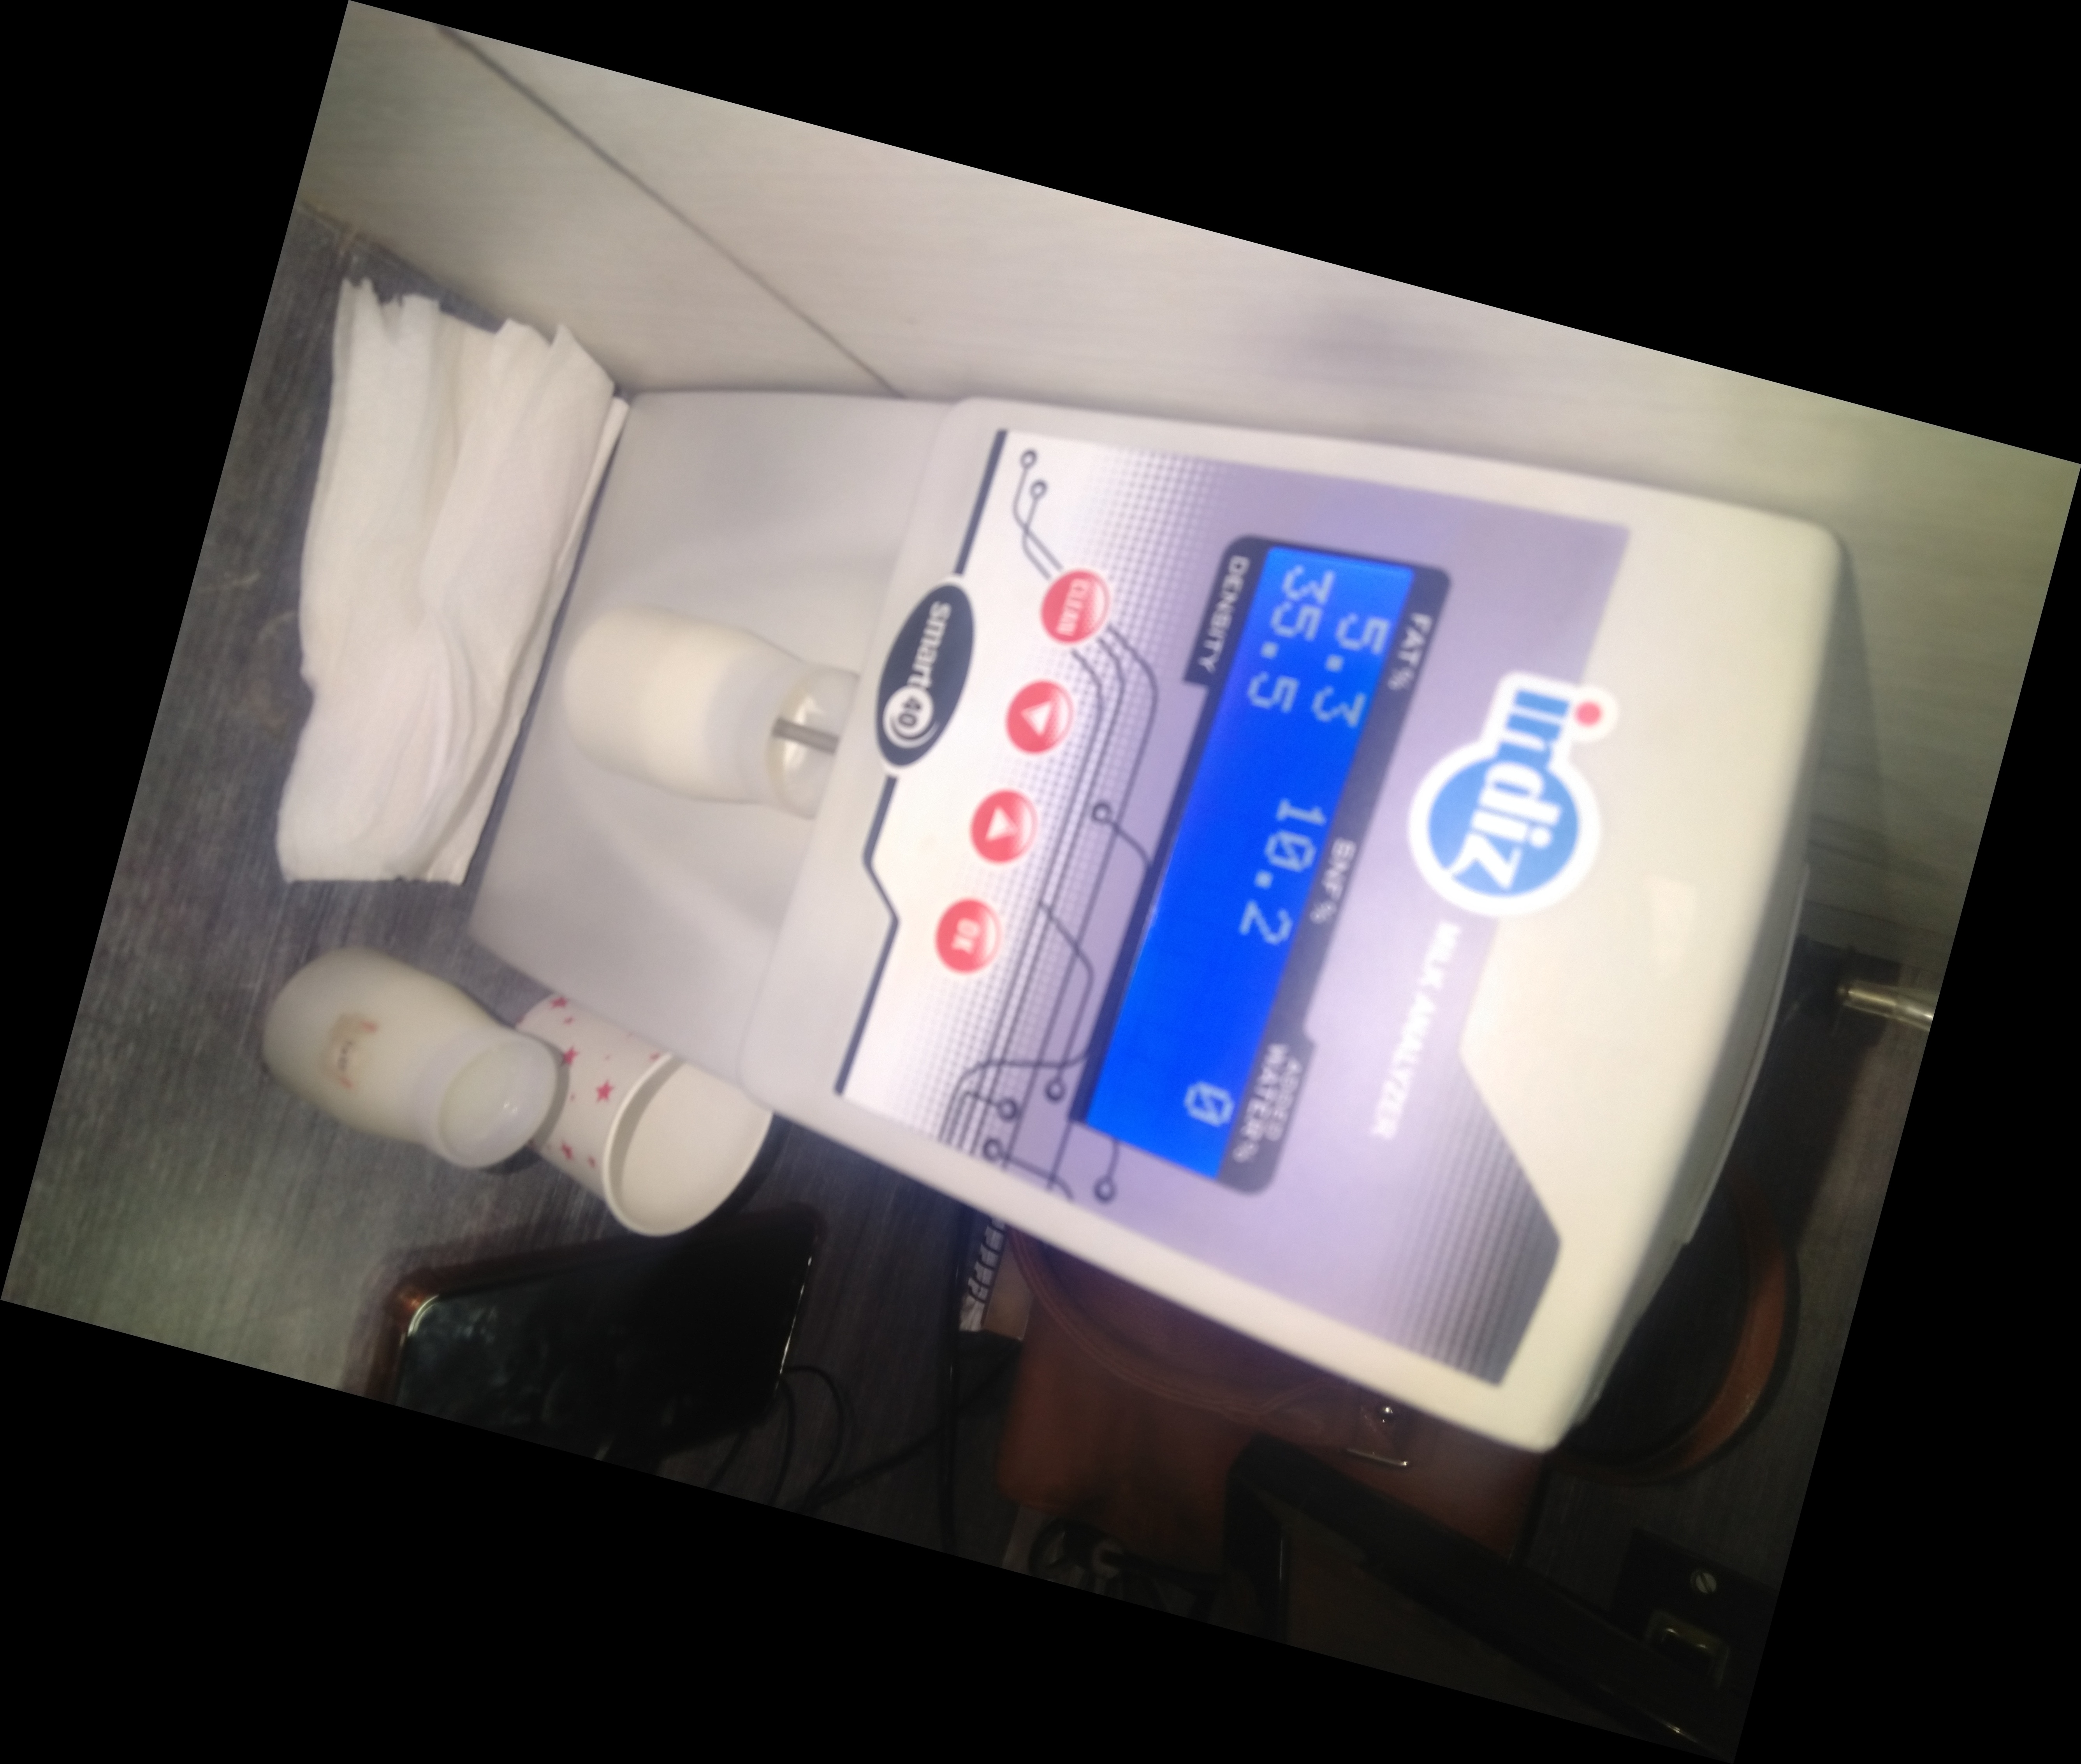lcd: (1068, 509, 1453, 1218)
